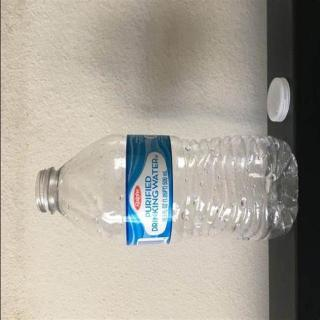Anorganik: (27, 132, 299, 249)
